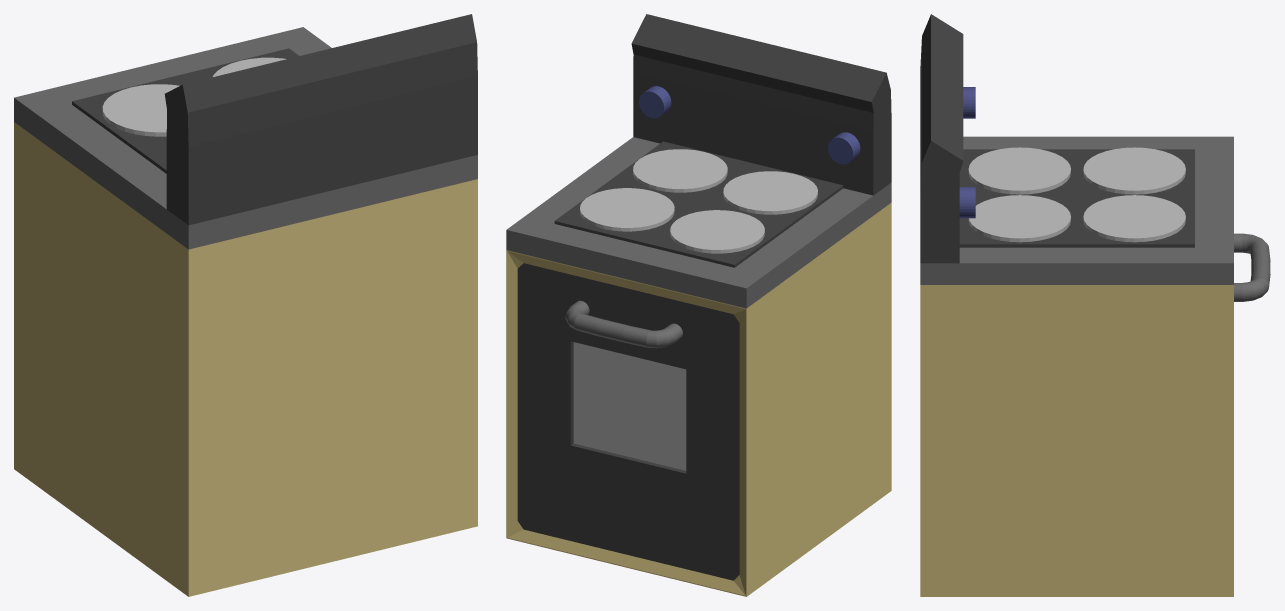
File: oven.fbx
3 views of the same model, side by side, from view 1: azimuth 30°, elevation 25°; view 2: azimuth 150°, elevation 25°; view 3: azimuth 270°, elevation 25° (orthographic). The views are drawn at different scales.
Visible parts, largest first — view 1: Cube, Cylinder.001; view 2: Cube, Plane, Cylinder.001, Plane.001, Cylinder, Cylinder.002; view 3: Cube, Cylinder.001, Cylinder, Cylinder.002.
Part boxes in pixels (<box>): Cube: <box>14,14,477,596</box>; Cylinder.001: <box>102,57,286,136</box>; Cube: <box>506,14,891,596</box>; Plane: <box>517,263,739,580</box>; Cylinder.001: <box>580,149,817,253</box>; Plane.001: <box>573,342,686,470</box>; Cylinder: <box>565,300,682,348</box>; Cylinder.002: <box>639,86,860,164</box>; Cube: <box>920,14,1233,596</box>; Cylinder.001: <box>968,147,1185,242</box>; Cylinder: <box>1234,233,1270,301</box>; Cylinder.002: <box>959,87,975,218</box>.
Size of the model in its own units: 1375 by 2306 by 1604.
